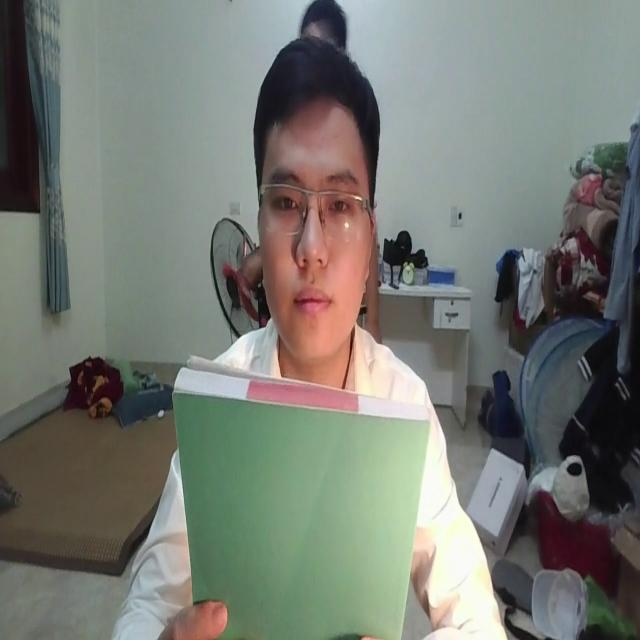book: (168, 345, 430, 640)
student: (114, 39, 502, 640)
